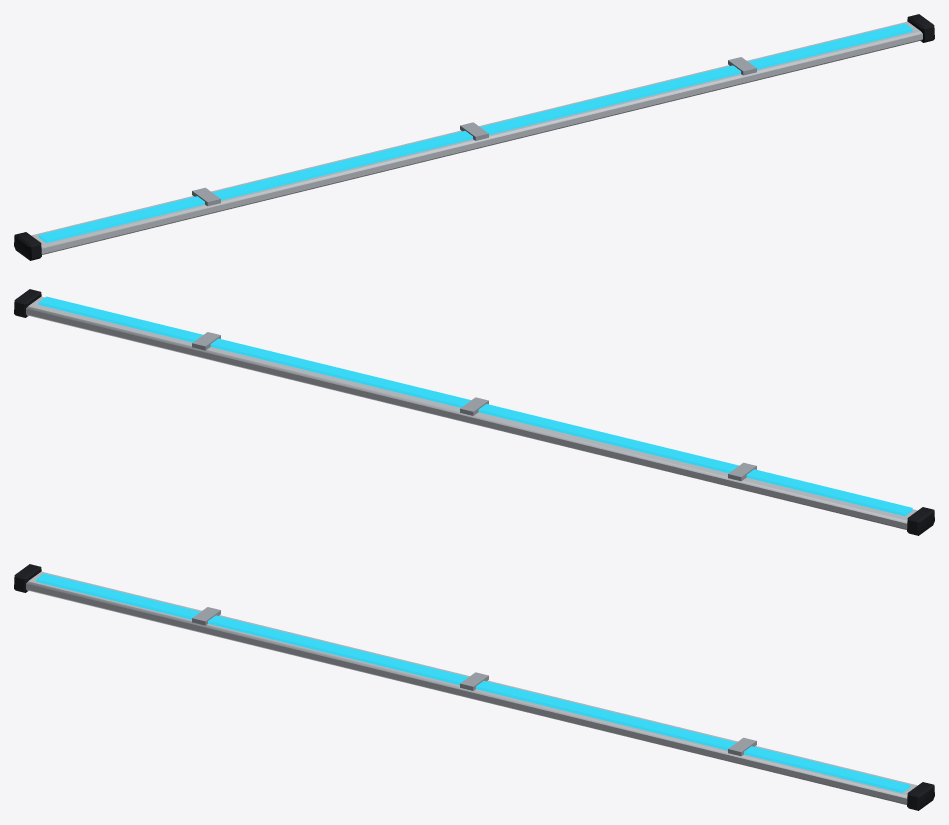
The model's file is striplight_floor_edge_runner.glb.
The picture shows the model from 3 angles, top to bottom: view 1: azimuth 30°, elevation 25°; view 2: azimuth 150°, elevation 25°; view 3: azimuth 330°, elevation 25°; orthographic projection.
Parts seen in each view (by area): view 1: striplight_floor_edge_runner; view 2: striplight_floor_edge_runner; view 3: striplight_floor_edge_runner.
Boxes of the visible parts, box(x1,y1,x2,y2) form: striplight_floor_edge_runner: box(14, 14, 934, 260); striplight_floor_edge_runner: box(14, 289, 934, 535); striplight_floor_edge_runner: box(14, 564, 934, 810).
Size of the model in its own units: 2.03 by 0.0351 by 0.0702.
